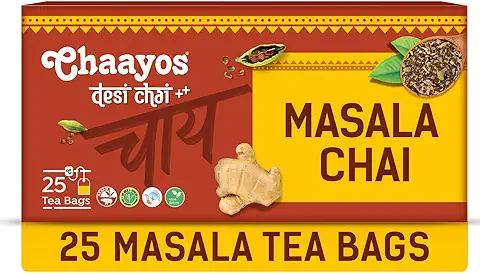Tea: (20, 2, 468, 271)
